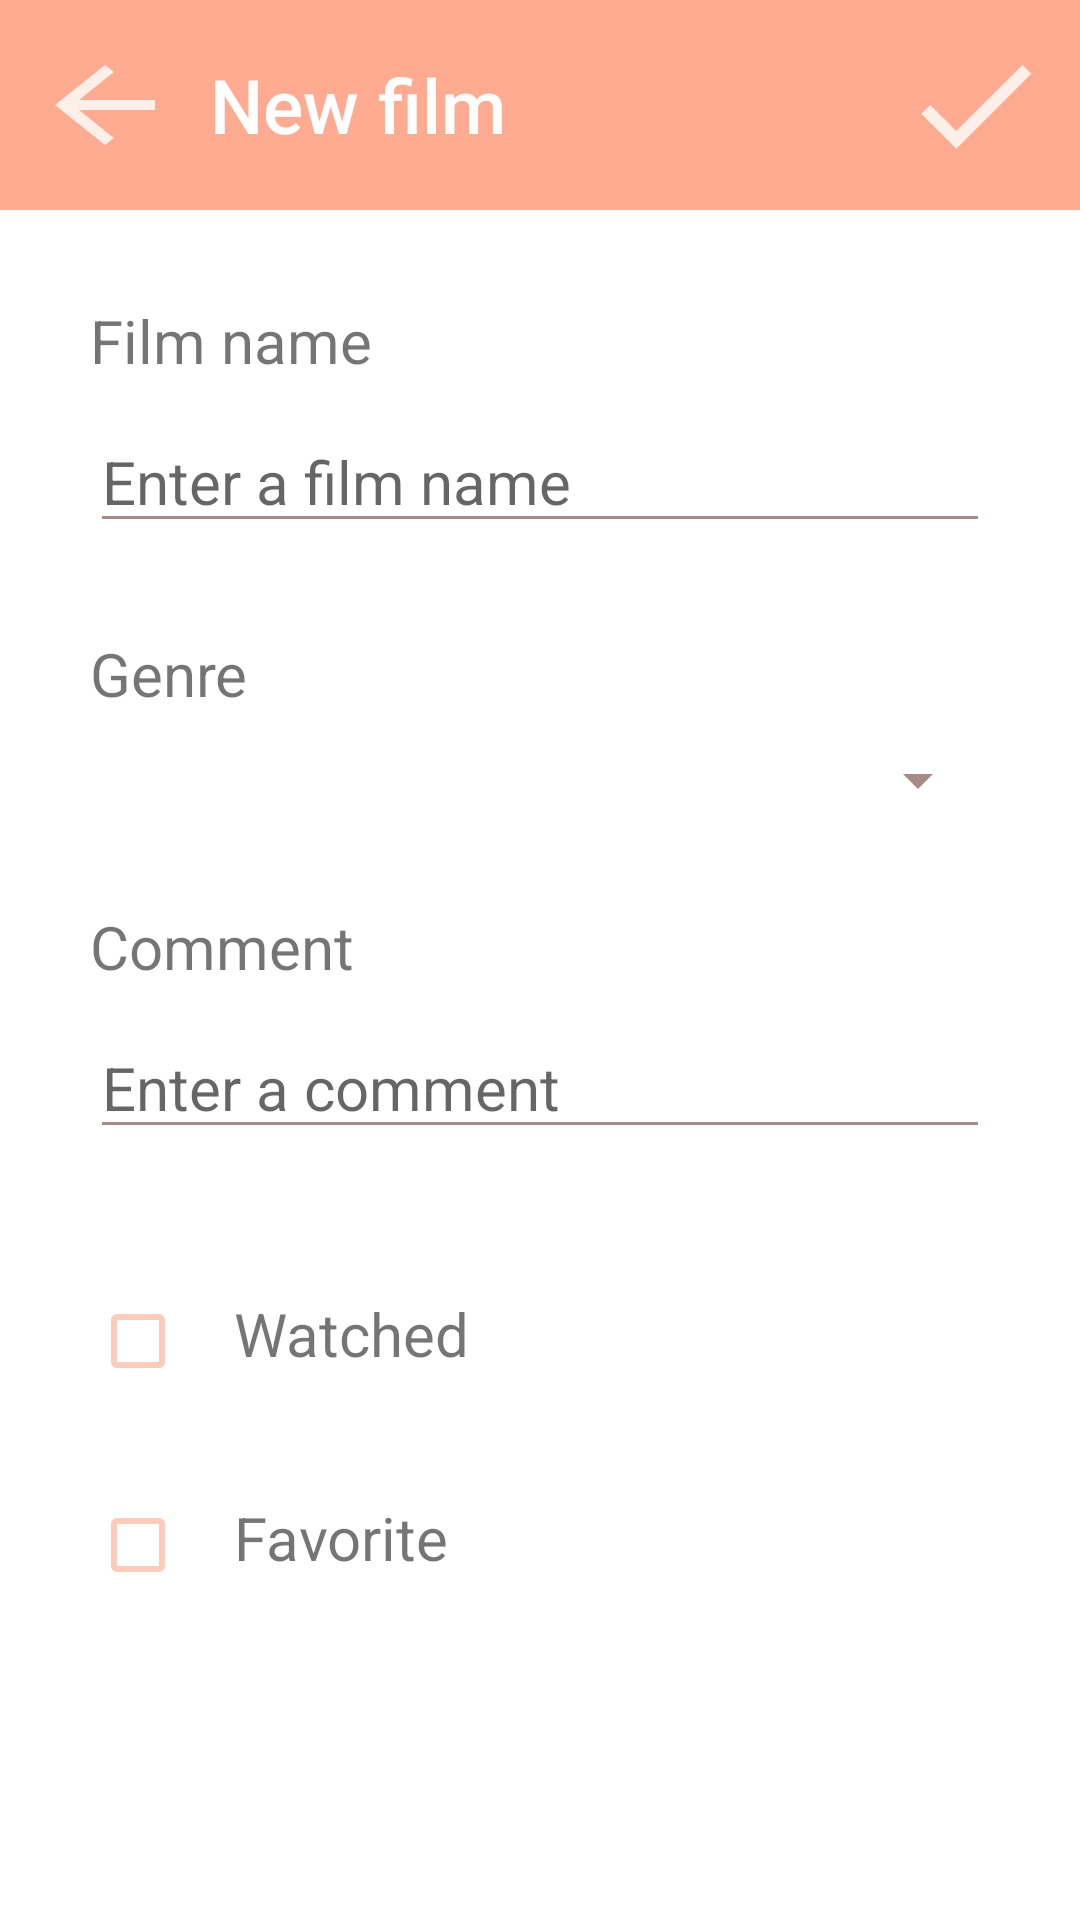

Icon bounding boxes for this 1080×1920 phone screenshot, format (x1, y1, x2, y2):
back: (55, 65, 155, 145)
save: (921, 65, 1031, 149)
